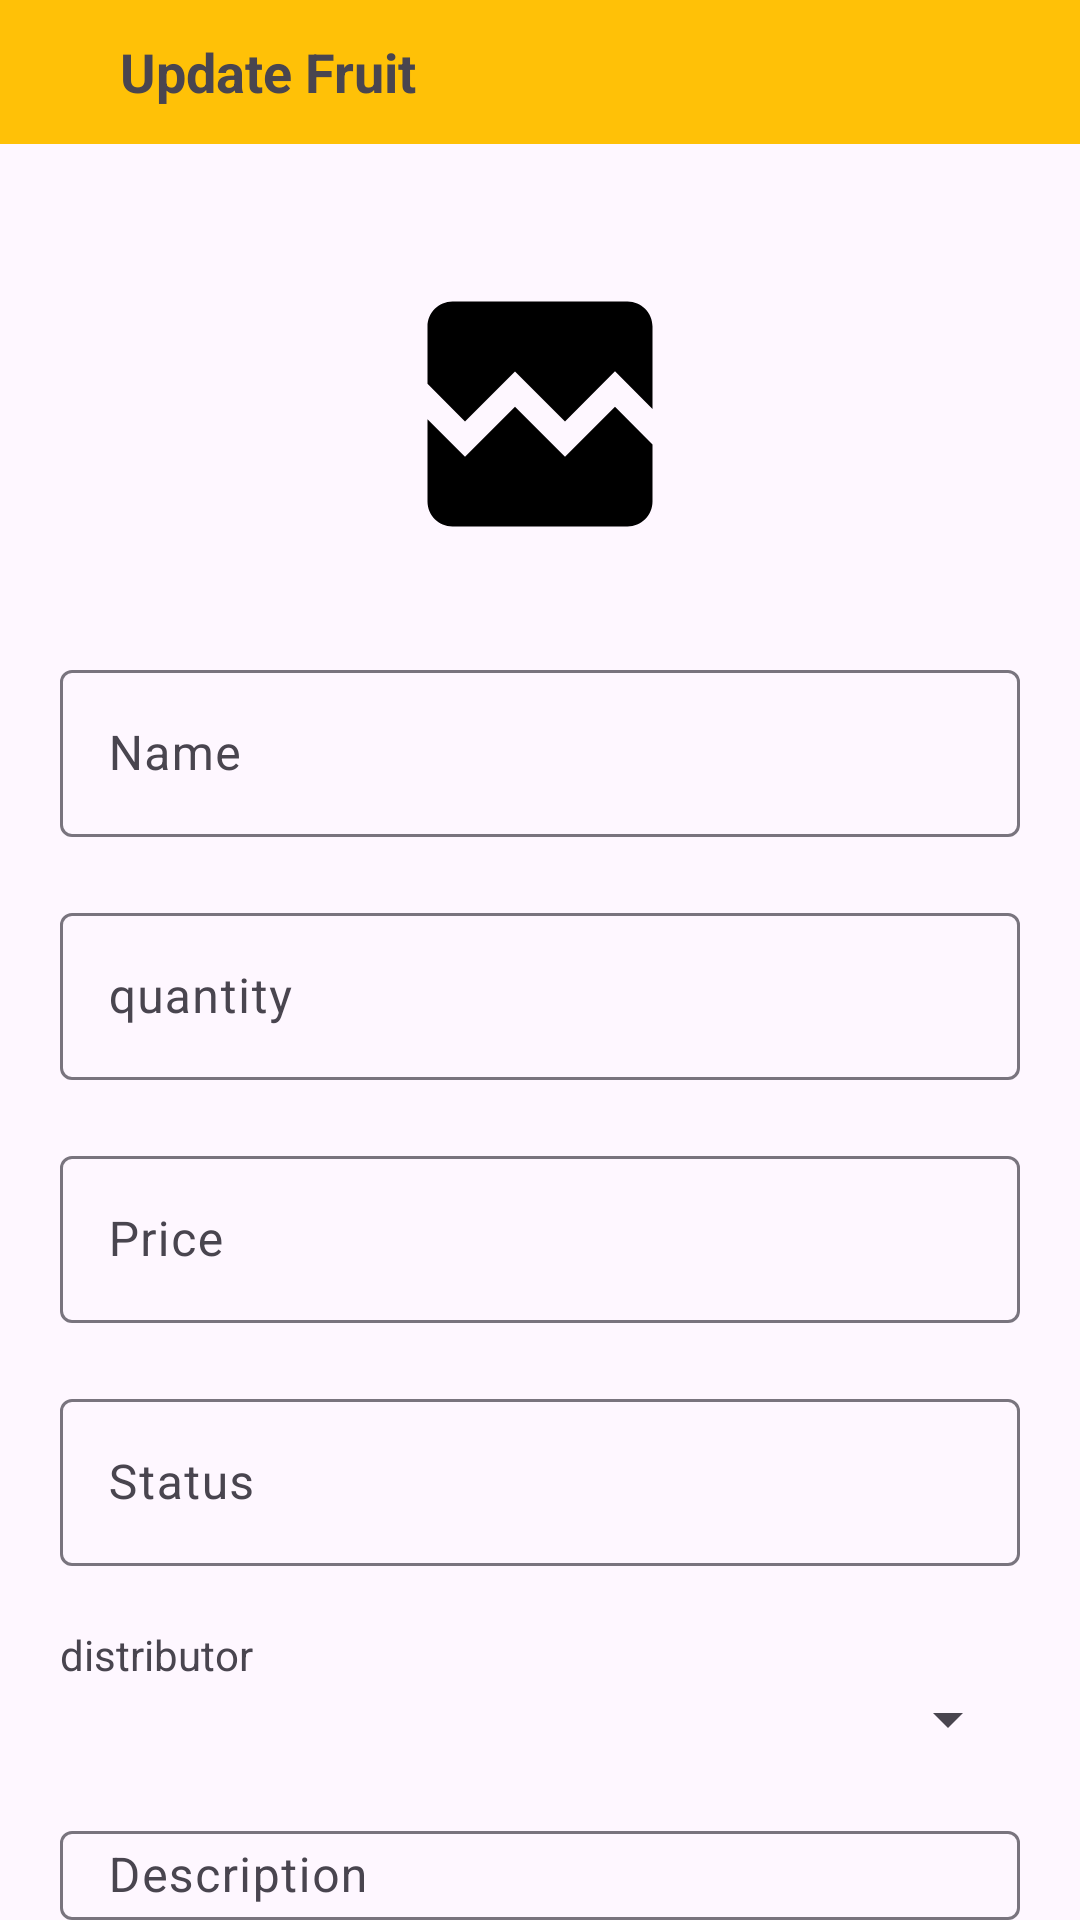

Point at icon controls on the screen. Image size 1080×1920, points as point (x, y).
broken: point (540, 414)
